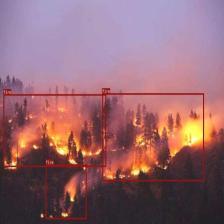fire: (102, 93, 204, 181), (3, 94, 106, 167), (46, 164, 86, 219)
